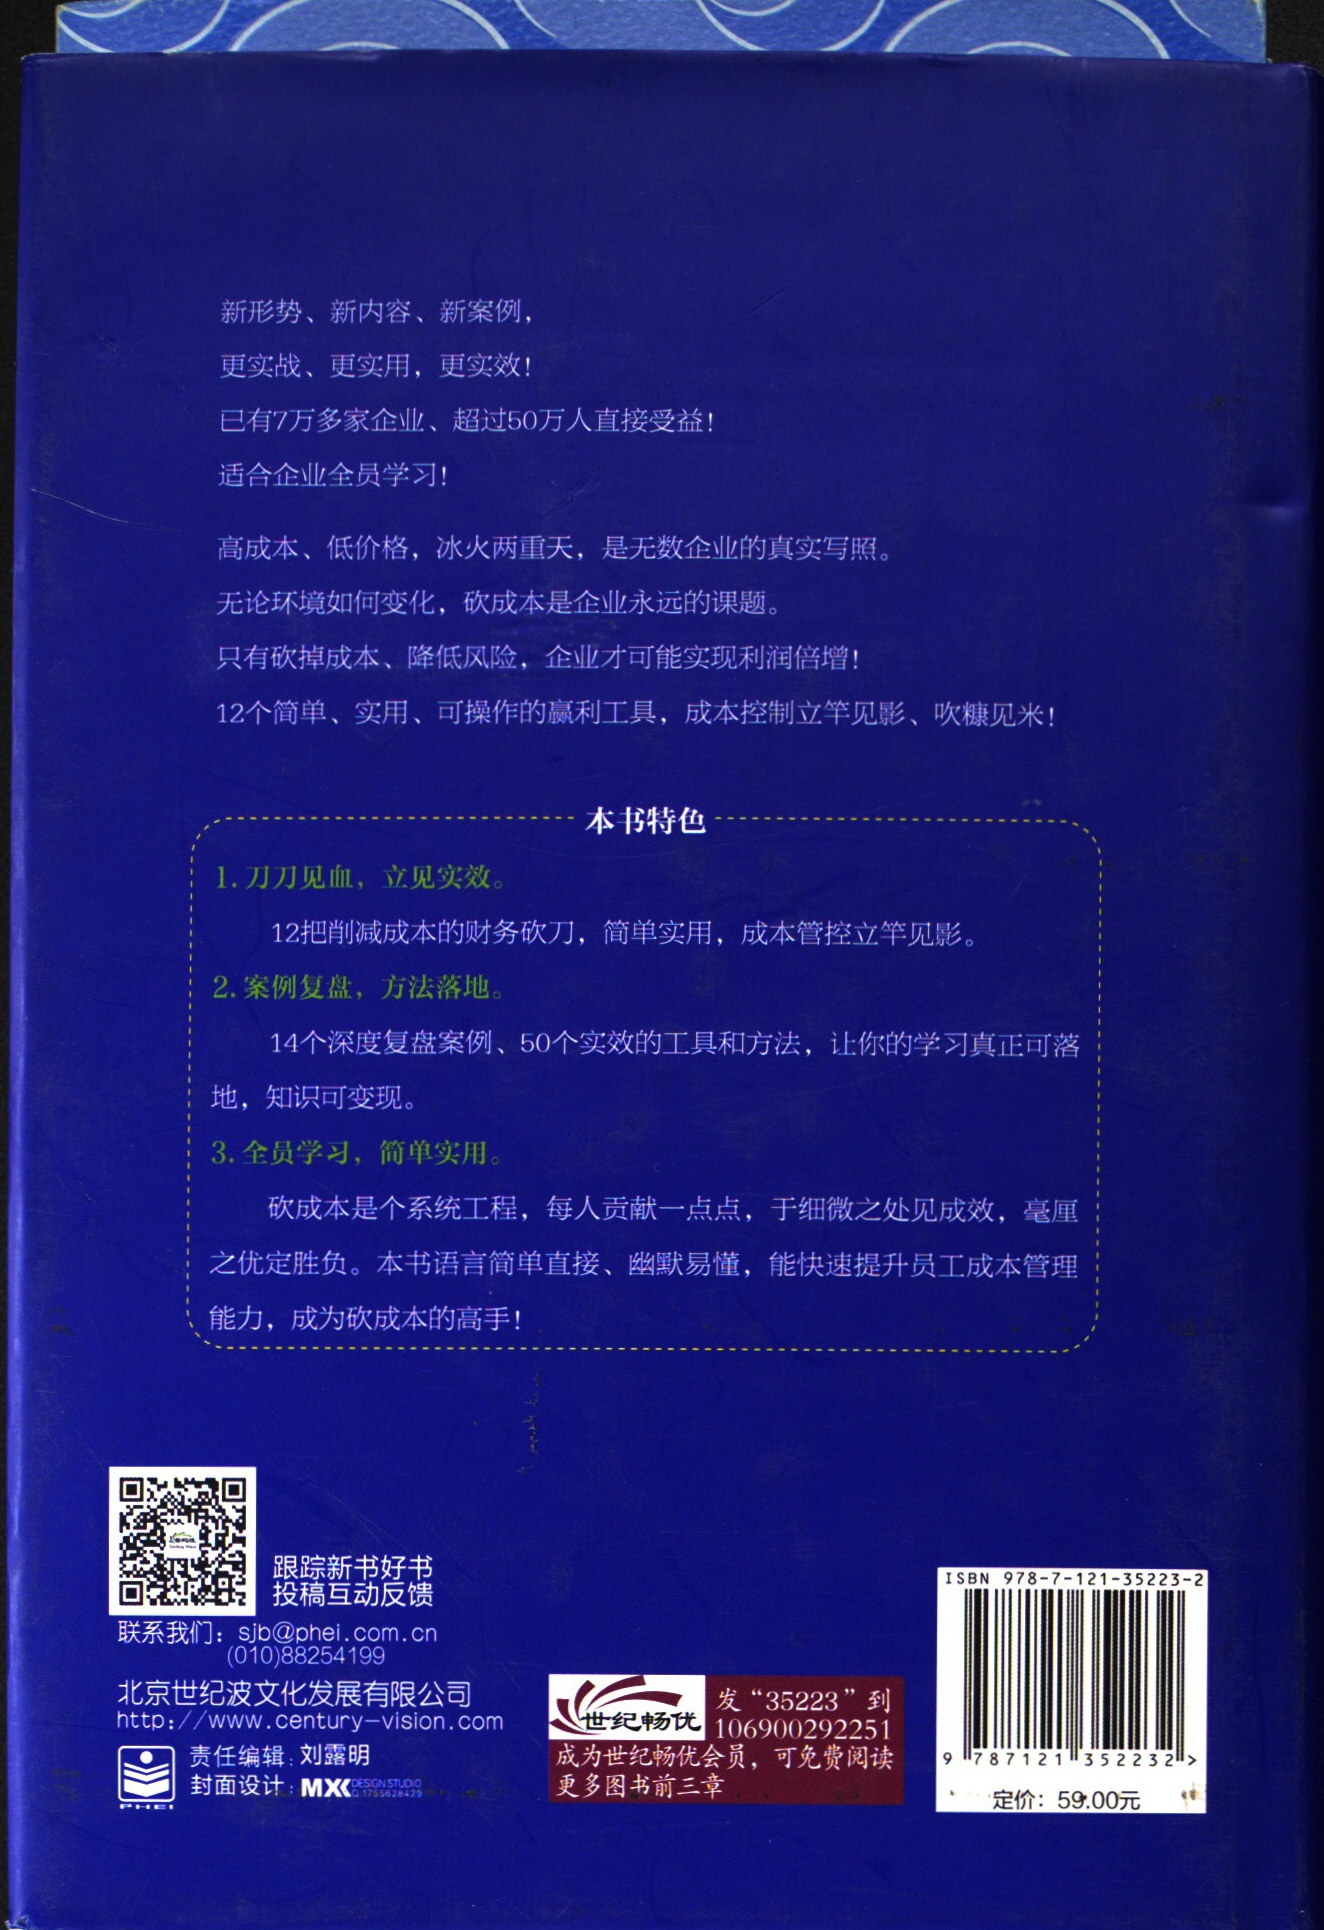barcode: (935, 1563, 1210, 1813)
